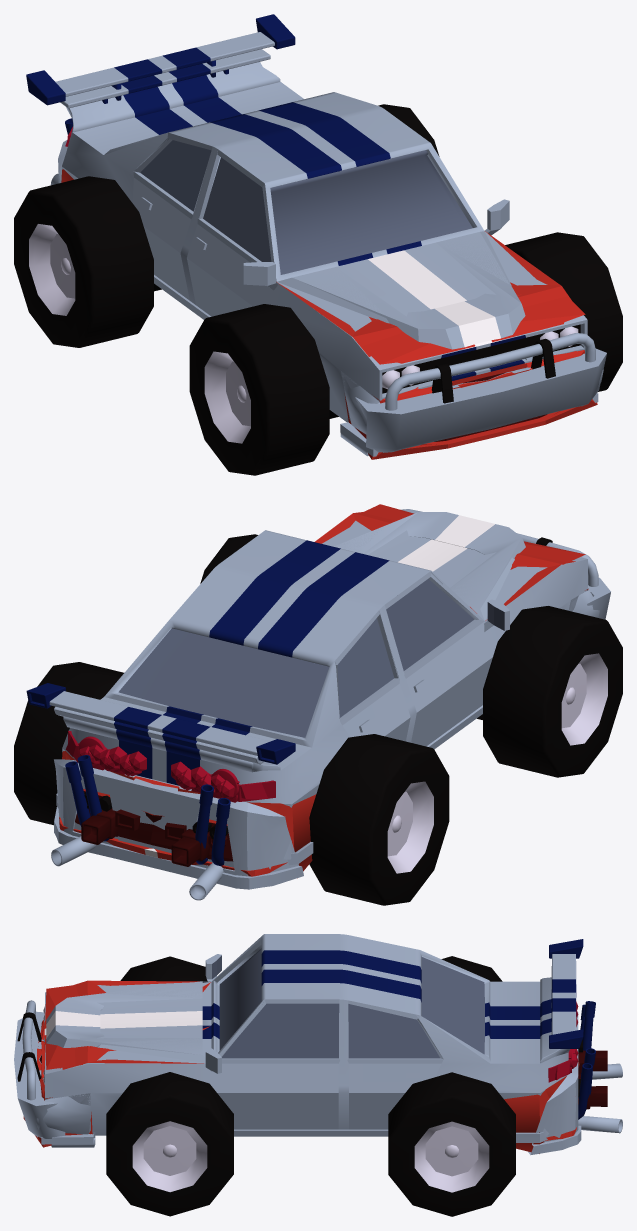
The model's file is sedan 1.fbx.
3 renders of one model, top to bottom at view 1: azimuth 30°, elevation 25°; view 2: azimuth 150°, elevation 25°; view 3: azimuth 270°, elevation 25°, orthographic. The views are drawn at different scales.
Parts seen in each view (by area): view 1: Carcas, sportBumper, sportBumper2, BigWheel.001, BigWheel, frontBumper, sportBumper3, SUVengine1, SUVengine2, SUVBumper3, BigWheel.002, spoiler3.001 (+9 smaller); view 2: Carcas, sportBumper2, SUVBumper3, BigWheel.001, BigWheel, sportBumper, backBumper, BigWheel.003, SUVengine2, sportBumper3, spoiler3.001, SUVBumper2 (+11 smaller); view 3: Carcas, sportBumper, BigWheel.003, BigWheel.002, sportBumper2, SUVBumper3, Bumper3, SUVengine1, SUVengine2, sportBumper3, SUVBumper2, frontBumper (+8 smaller).
Part boxes in pixels (x1,y1,x2,y2): Carcas: [62, 82, 587, 422]; sportBumper: [61, 139, 584, 403]; sportBumper2: [61, 127, 584, 445]; BigWheel.001: [189, 304, 329, 475]; BigWheel: [14, 176, 153, 347]; frontBumper: [355, 333, 606, 452]; sportBumper3: [140, 151, 597, 459]; SUVengine1: [277, 231, 538, 357]; SUVengine2: [292, 232, 525, 351]; SUVBumper3: [50, 140, 598, 456]; BigWheel.002: [505, 232, 622, 391]; spoiler3.001: [26, 14, 295, 105]; Carcas: [62, 530, 587, 804]; sportBumper2: [65, 575, 509, 878]; SUVBumper3: [51, 573, 577, 900]; BigWheel.001: [483, 606, 622, 777]; BigWheel: [309, 734, 449, 905]; sportBumper: [62, 571, 588, 848]; backBumper: [54, 759, 303, 889]; BigWheel.003: [14, 662, 123, 825]; SUVengine2: [334, 512, 525, 608]; sportBumper3: [59, 580, 438, 876]; spoiler3.001: [26, 683, 295, 764]; SUVBumper2: [56, 573, 452, 867]; Carcas: [43, 934, 568, 1135]; sportBumper: [37, 946, 584, 1129]; BigWheel.003: [388, 1072, 515, 1216]; BigWheel.002: [106, 1072, 233, 1216]; sportBumper2: [37, 945, 569, 1153]; SUVBumper3: [41, 945, 622, 1144]; Bumper3: [36, 1001, 595, 1136]; SUVengine1: [45, 981, 205, 1062]; SUVengine2: [46, 981, 210, 1054]; sportBumper3: [23, 948, 607, 1147]; SUVBumper2: [51, 953, 578, 1147]; frontBumper: [14, 1000, 65, 1138].
Bounding box in the file's own units: 3.79 × 2.26 × 6.91.
